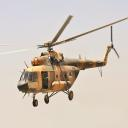helicopter: (4, 16, 128, 107)
